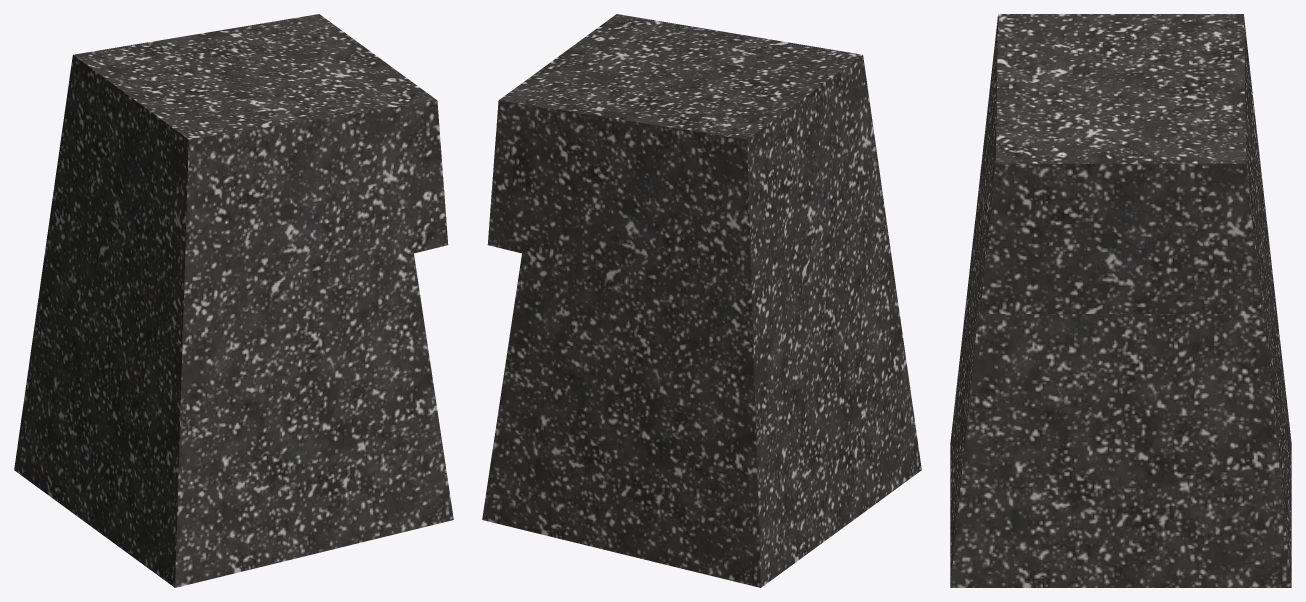
Rendered from black_knight.glb.
3 renders of one model, left to right at view 1: azimuth 30°, elevation 25°; view 2: azimuth 150°, elevation 25°; view 3: azimuth 270°, elevation 25°, orthographic. The views are drawn at different scales.
Parts seen in each view (by area): view 1: Black_Knight; view 2: Black_Knight; view 3: Black_Knight.
Boxes of the visible parts, box(x1,y1,x2,y2) form: Black_Knight: box(14, 14, 453, 587); Black_Knight: box(482, 14, 921, 587); Black_Knight: box(950, 14, 1291, 587).
Size of the model in its own units: 0.035 by 0.0493 by 0.034.
Materials: 1 (1 with a texture image).
